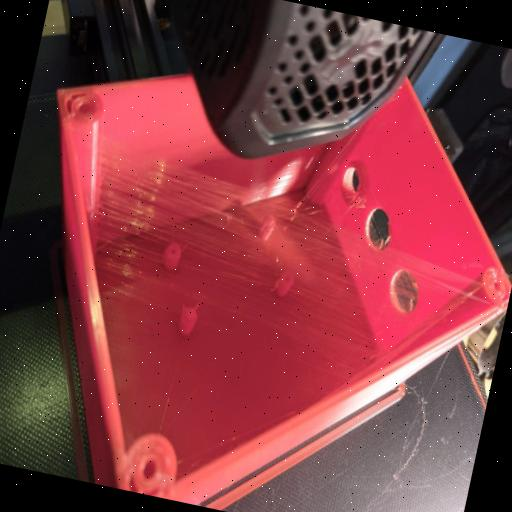stringing: (100, 131, 479, 377)
